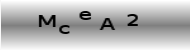2: (126, 13, 139, 26)
A: (99, 17, 115, 30)
M: (37, 13, 56, 27)
c: (57, 24, 70, 34)
e: (78, 10, 91, 20)
